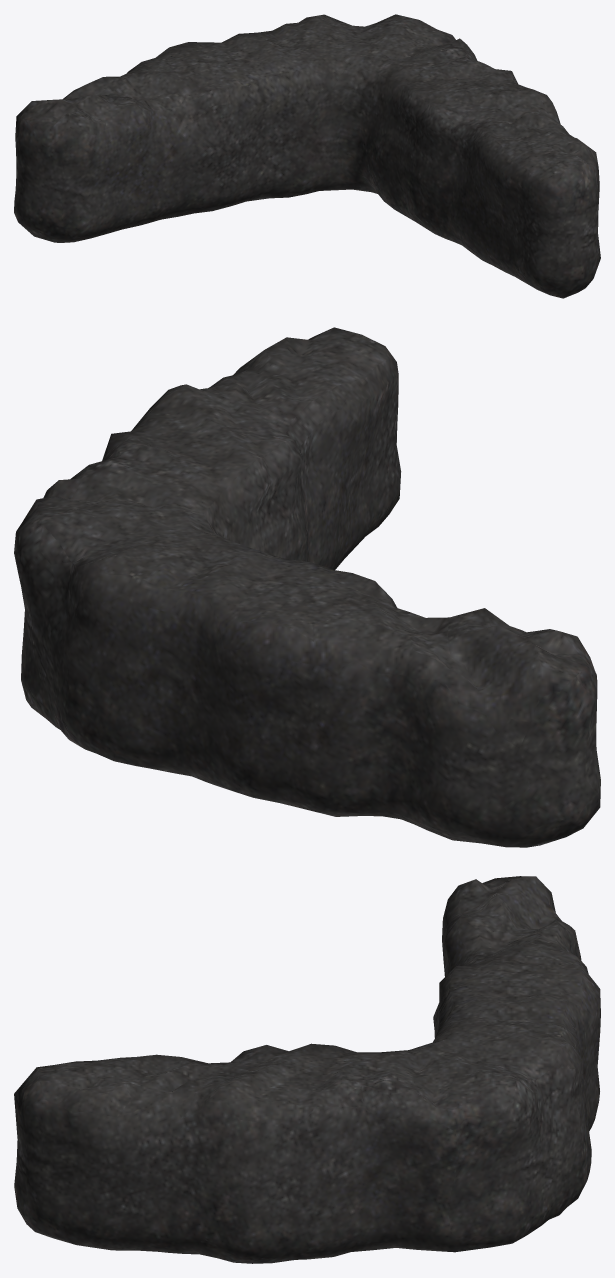
Rendered from CaveWalls4_E.obj.
3 views of the same model, one above another, from view 1: azimuth 30°, elevation 25°; view 2: azimuth 150°, elevation 25°; view 3: azimuth 270°, elevation 25° (orthographic). The views are drawn at different scales.
Parts seen in each view (by area): view 1: CaveWalls4E; view 2: CaveWalls4E; view 3: CaveWalls4E.
Boxes of the visible parts, left/top/right/bottom form: CaveWalls4E: left=14, top=14, right=600, bottom=298; CaveWalls4E: left=14, top=327, right=600, bottom=847; CaveWalls4E: left=14, top=876, right=600, bottom=1263.
Size of the model in its own units: 50.76 by 15.67 by 48.68.
1 material, 1 textured.
